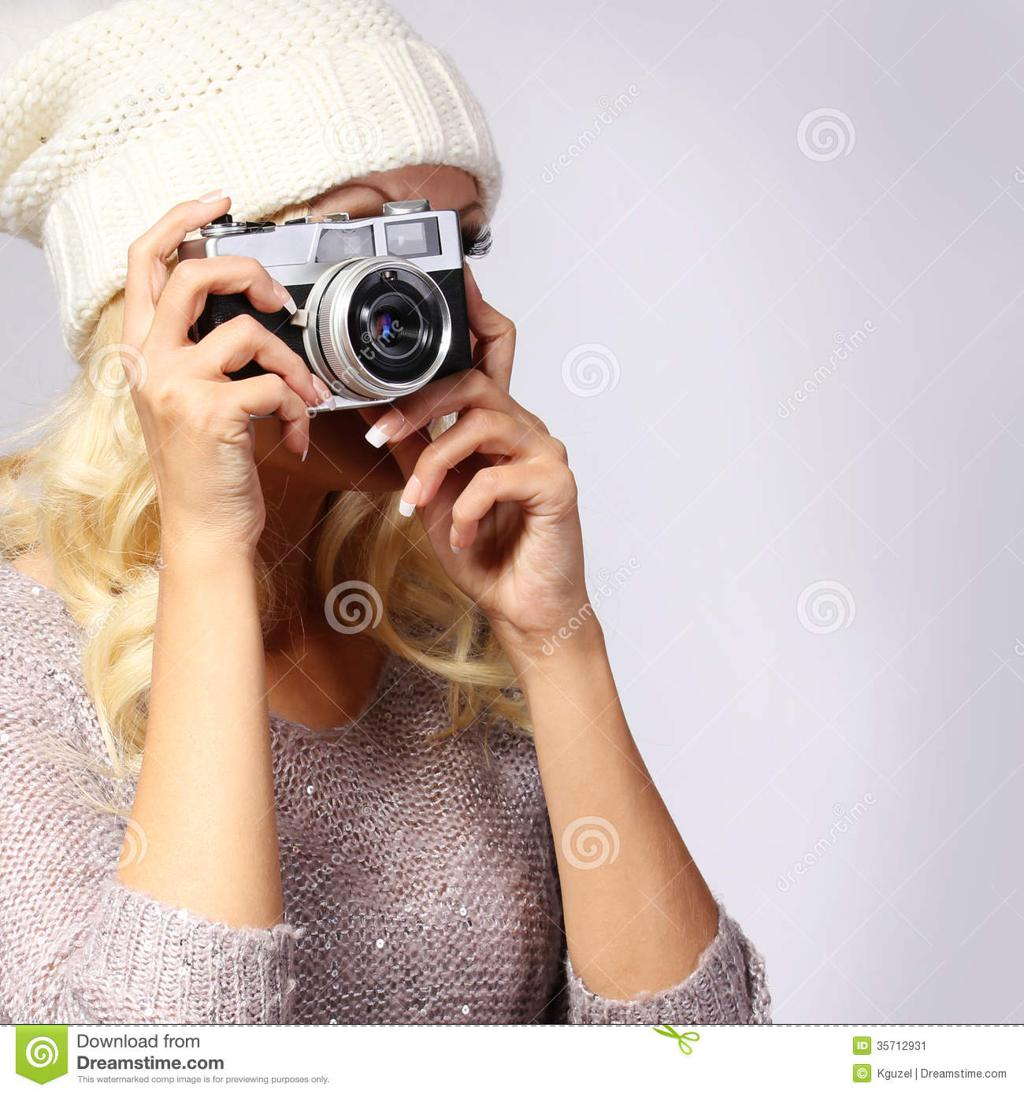face: (203, 98, 477, 547)
